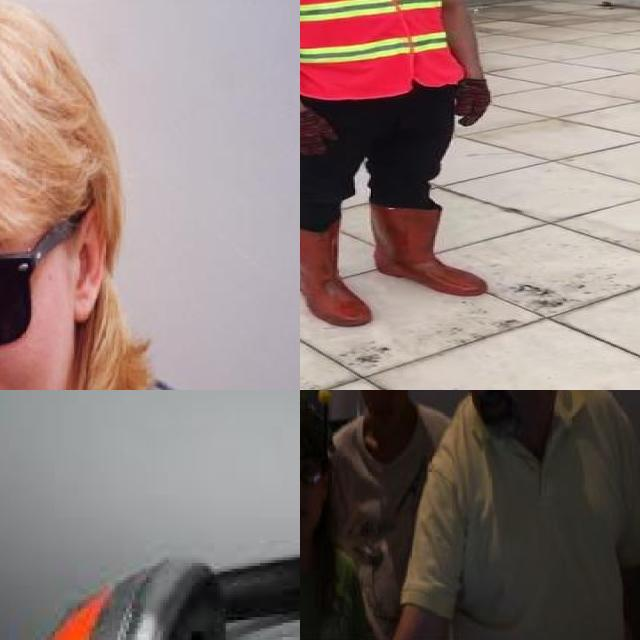Ear-protection: (12, 557, 114, 640)
No_Ear-Protection: (64, 203, 116, 322)
boots: (368, 202, 488, 296), (300, 220, 372, 326)
face_nomask: (450, 390, 530, 417), (300, 453, 327, 522), (359, 390, 411, 405)
glasses: (0, 219, 92, 363), (300, 459, 333, 495)
hand_glove: (300, 110, 339, 160), (456, 76, 490, 125)
head_nohelmet: (0, 1, 109, 261), (300, 406, 344, 468)
person: (300, 0, 507, 333), (401, 390, 640, 640), (322, 390, 465, 614), (300, 406, 371, 640)
vest: (300, 0, 459, 100)
